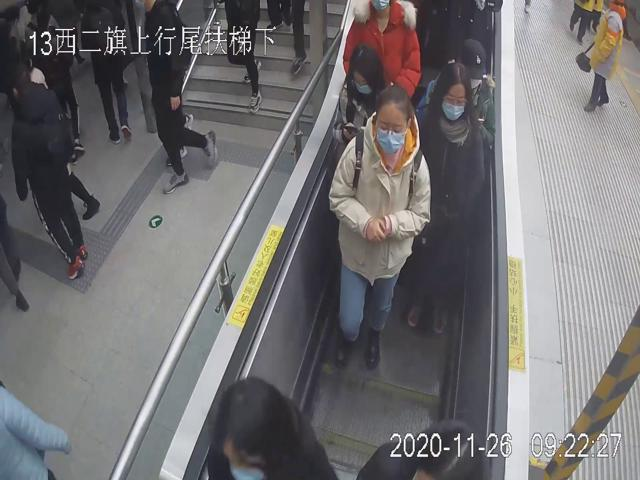person: (327, 84, 432, 371), (403, 61, 485, 338), (414, 33, 495, 152), (330, 41, 396, 152)
